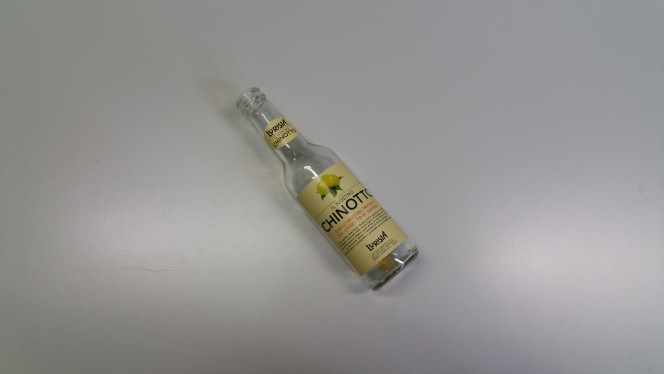bottle: (234, 73, 426, 292)
